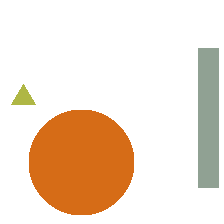circle: (29, 110, 133, 214)
rectangle: (198, 48, 218, 187)
triangle: (11, 84, 35, 104)
